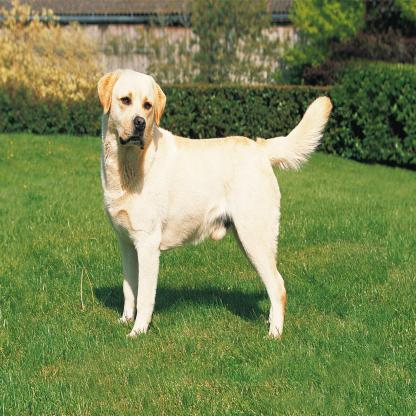Rotveler: (93, 63, 336, 341)
